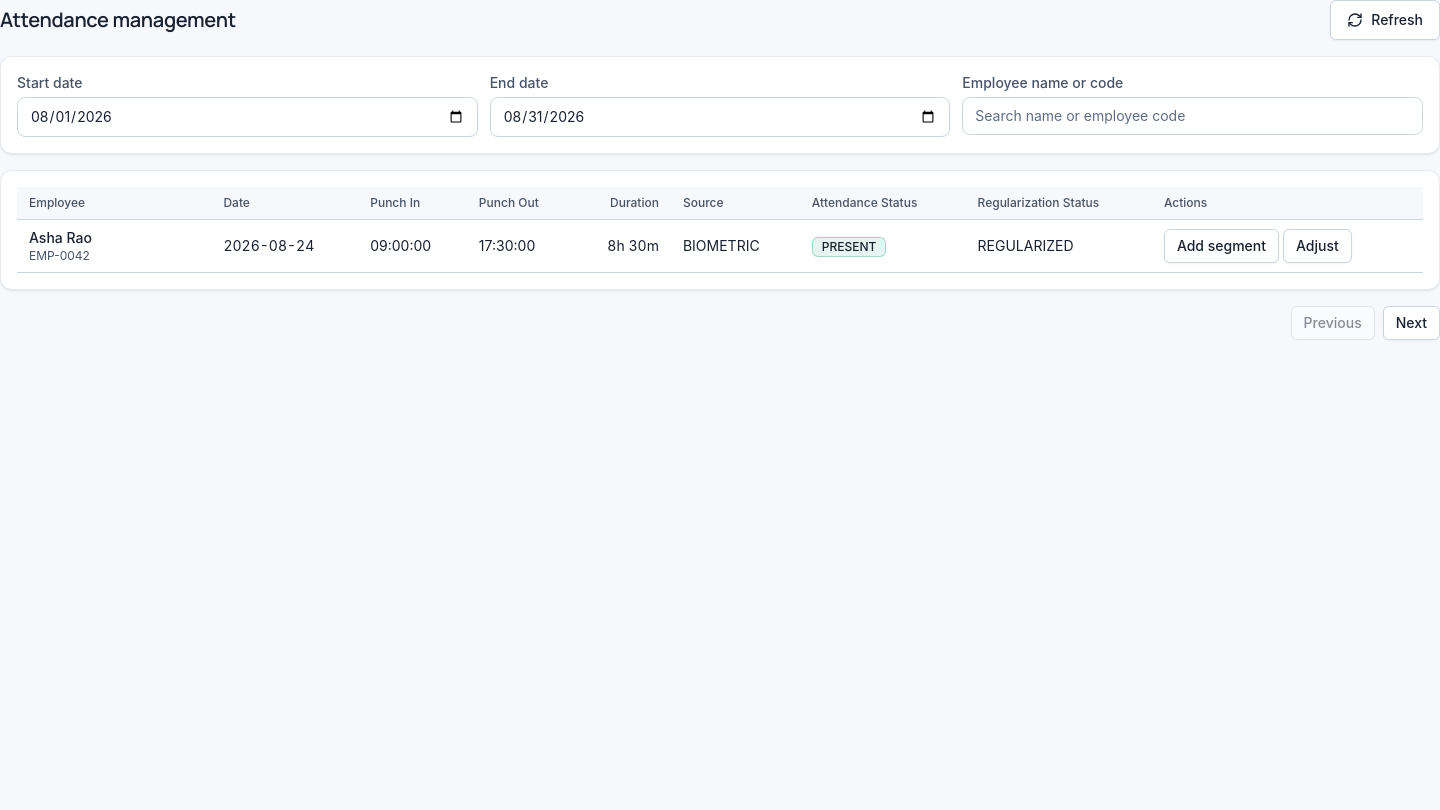
Test: HR attendance context › creates from a historical row with its employee and date without reusing its edit id
Click the button with aria-label "Add segment for Asha Rao".
click(1221, 246)  # box [1164,229,1279,263]
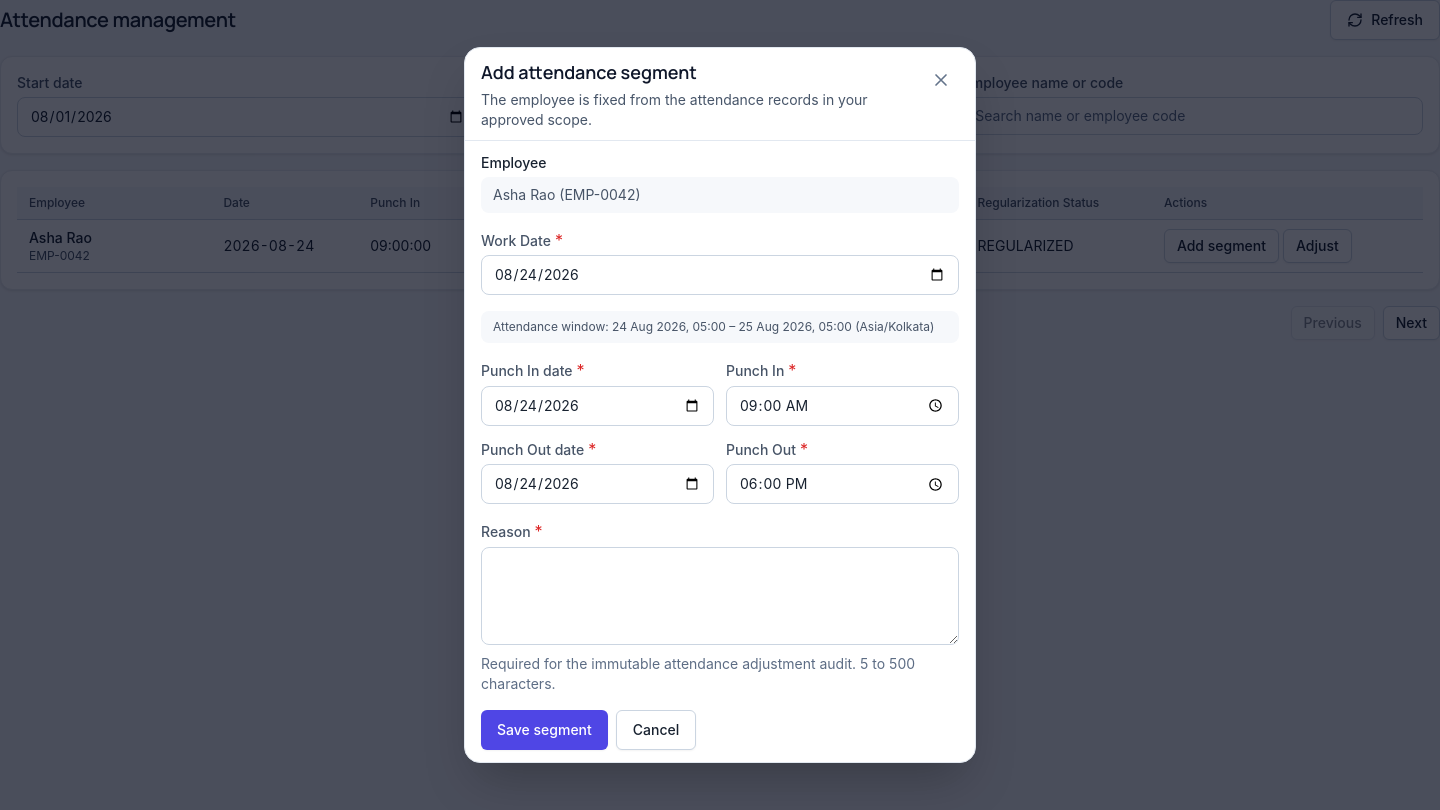
Check: the text "Attendance window:" is shown, box [493,319,612,334]
Check: the date field labelled "Work Date" holds "2026-08-24", box [481,255,959,295]
Replace the text in the time field labelled "Punch In" with "18:00" at (842, 406), box [726,386,959,426]
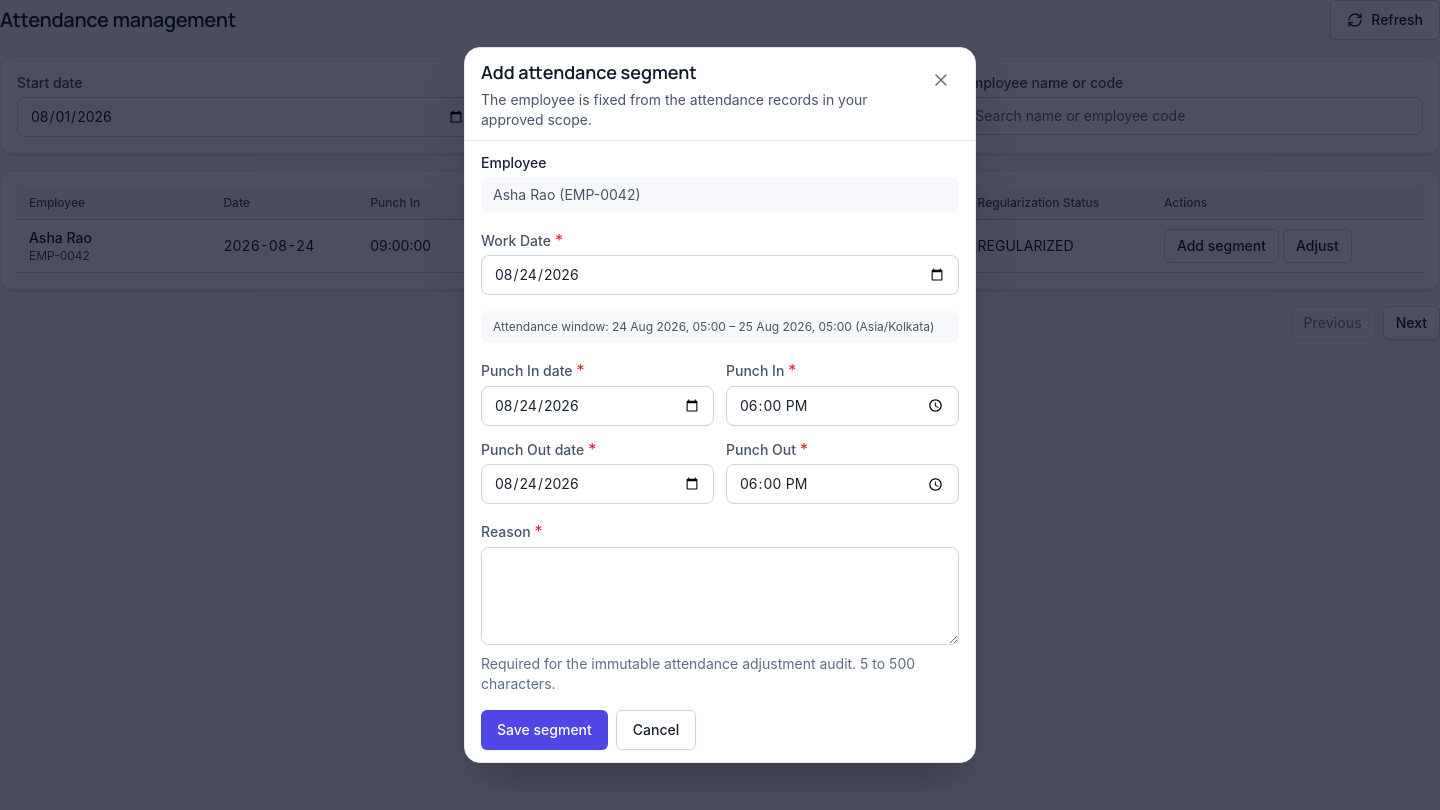
Replace the text in the time field labelled "Punch Out" with "19:00" at (842, 484), box [726,464,959,504]
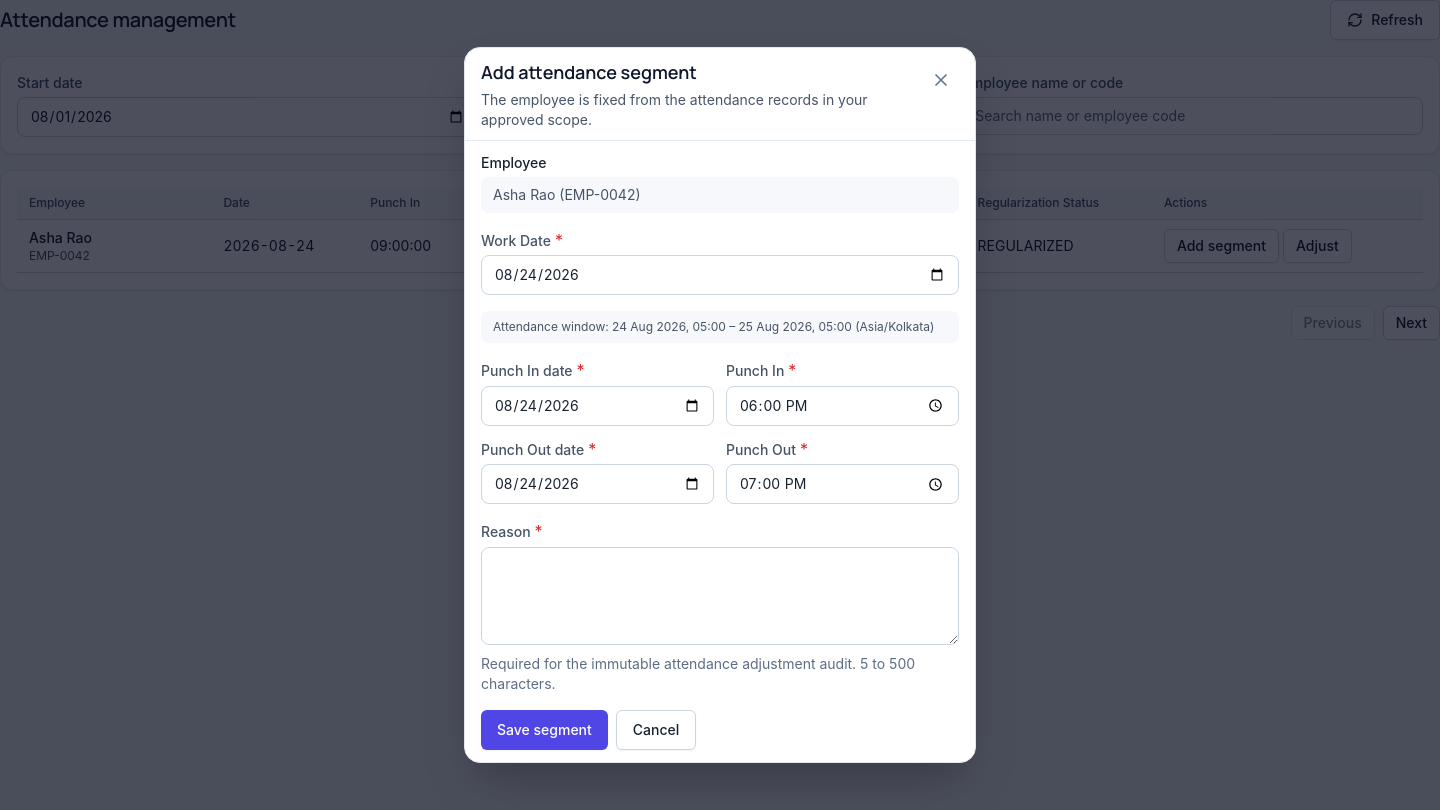
Type "Approved evening work" into the text box labelled "Reason".
click(720, 596); type("Approved evening work")  # box [481,547,959,645]
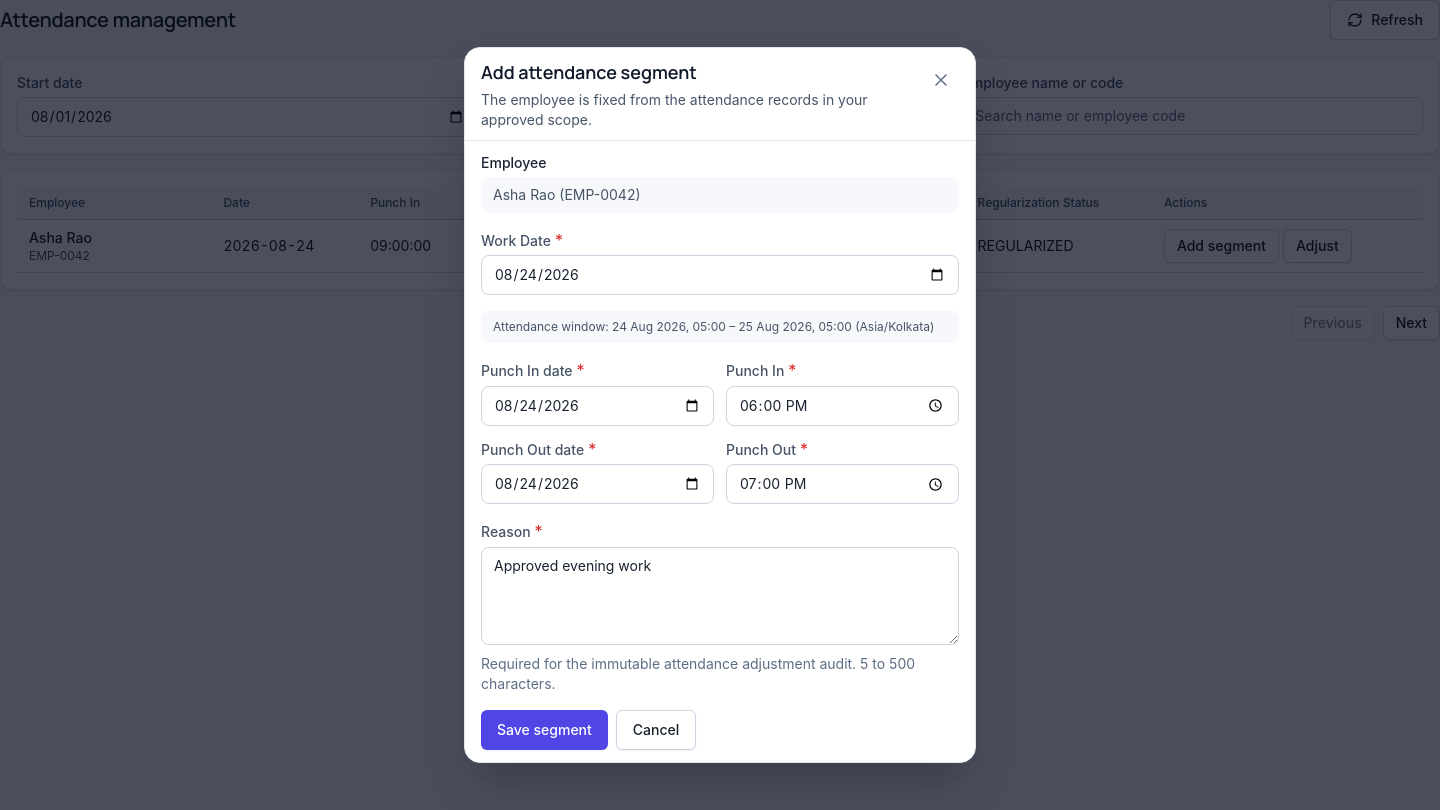
Click the button "Save segment".
click(544, 730)  # box [481,710,608,750]
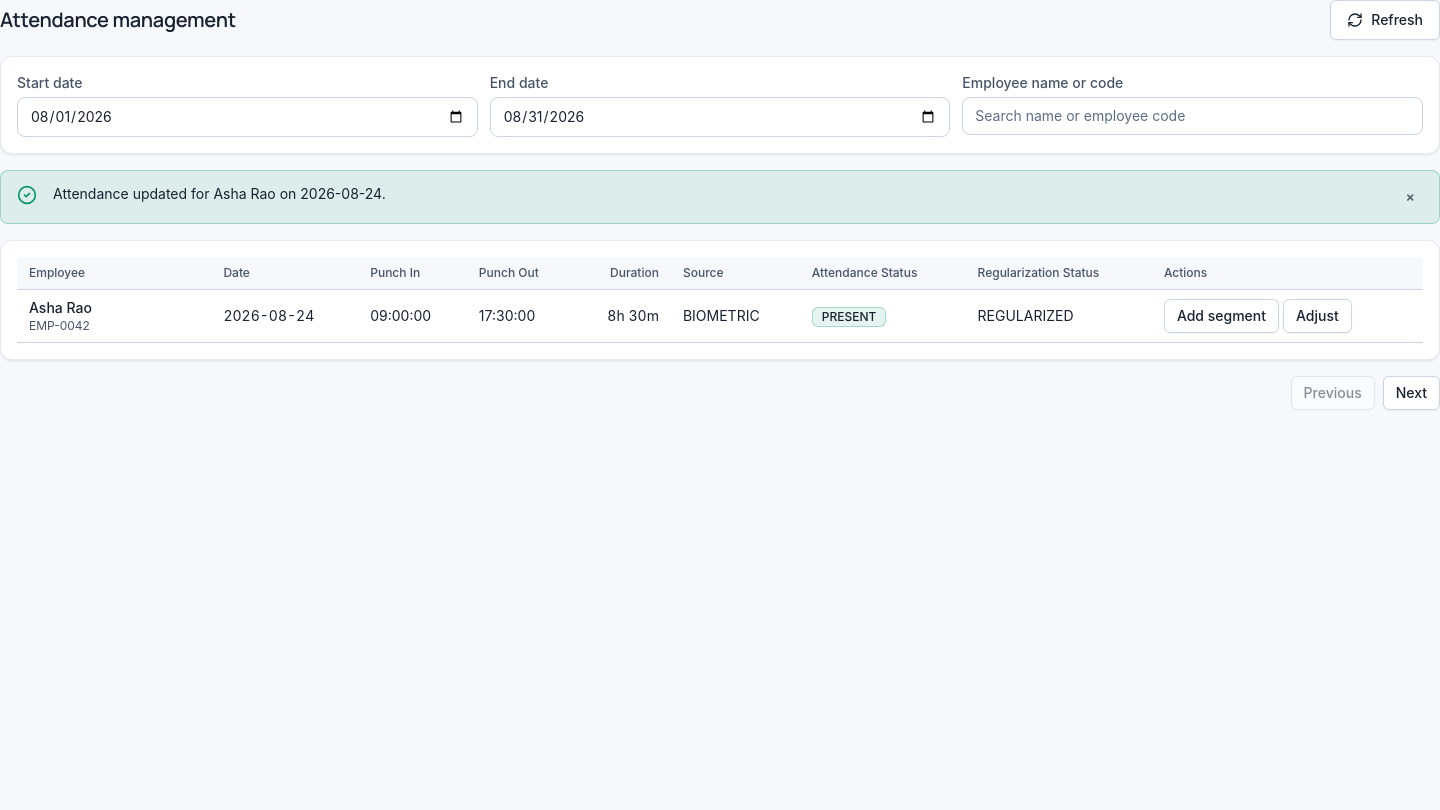
Check: the dialog is gone
